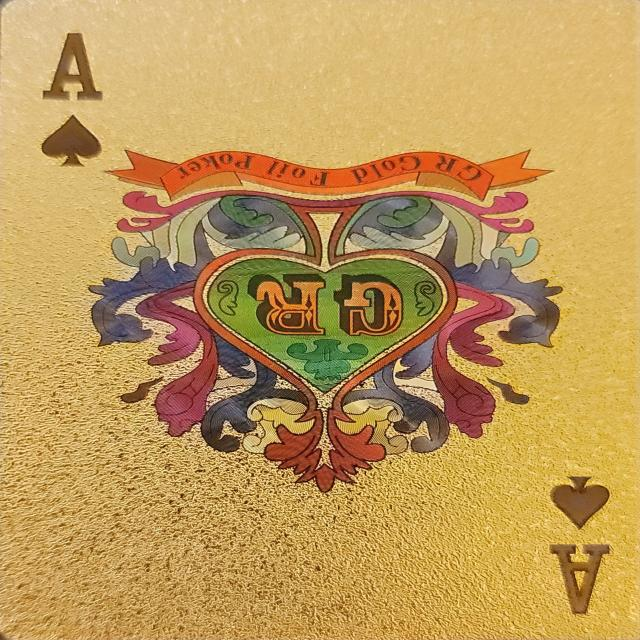Ace of spades: (1, 0, 640, 640)
